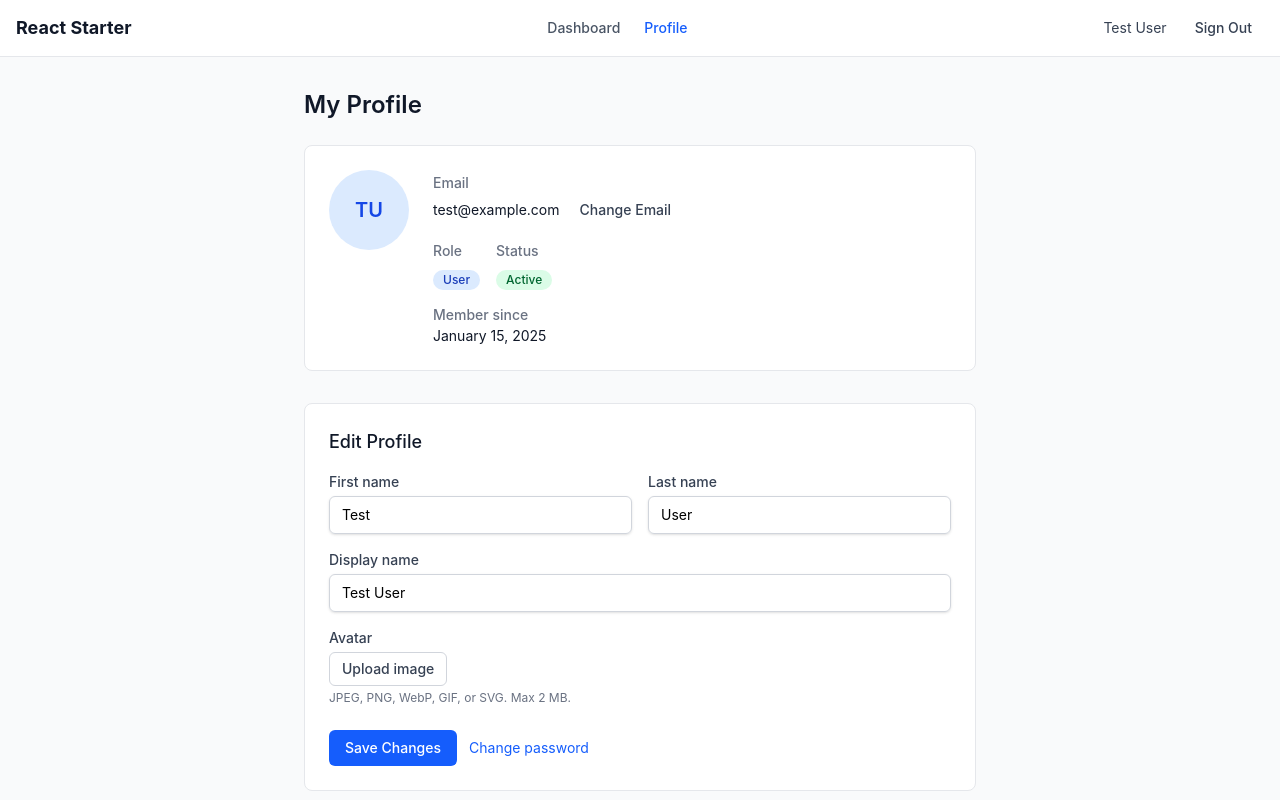
Test: ProfilePage › opens Change Email dialog
Click the button "Change Email": (625, 210) [568,194,683,226]
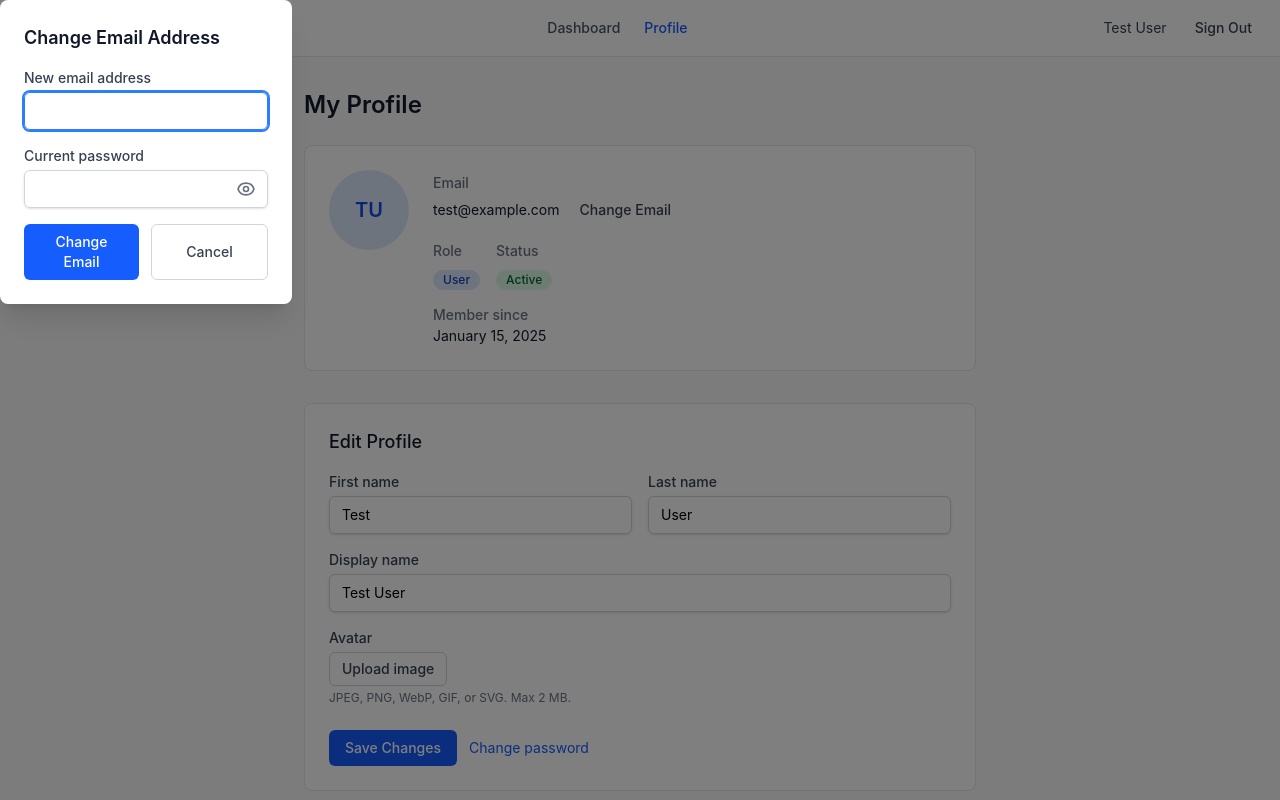
Result: the heading "Change Email Address" is shown at [24,27,220,48]
Result: the field labelled "New email address" is shown at [24,92,268,130]
Result: the password field labelled "Current password" is shown at [24,170,268,208]
